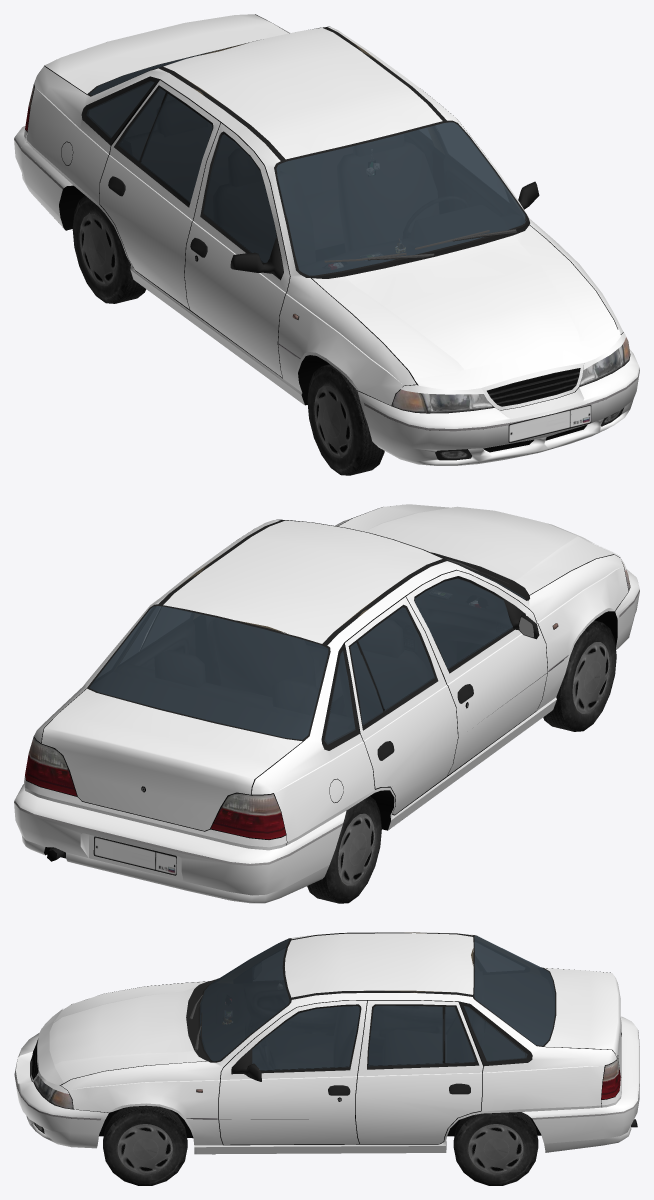
File: nexia.glb
3 views of the same model, one above another, from view 1: azimuth 30°, elevation 25°; view 2: azimuth 150°, elevation 25°; view 3: azimuth 270°, elevation 25° (orthographic). The views are drawn at different scales.
Parts seen in each view (by area): view 1: Color_DN, Inter, steklo_DN, muho_DN_tun, FRDN, RRDN, kolpak1_1, kolpak1_3, resnic_DN_tun; view 2: Color_DN, Inter, steklo_DN, FRDN, RRDN, kolpak1_1, kolpak1_3; view 3: Color_DN, Inter, steklo_DN, FLDN, RLDN, kolpak1, kolpak1_2, muho_DN_tun.
Boxes of the visible parts, <box> form: Color_DN: <box>14,14,639,465</box>; Inter: <box>14,14,639,460</box>; steklo_DN: <box>86,29,526,275</box>; muho_DN_tun: <box>414,329,620,390</box>; FRDN: <box>307,364,384,475</box>; RRDN: <box>72,195,146,303</box>; kolpak1_1: <box>314,385,351,457</box>; kolpak1_3: <box>79,214,116,285</box>; resnic_DN_tun: <box>400,332,625,394</box>; Color_DN: <box>14,504,639,903</box>; Inter: <box>14,507,639,875</box>; steklo_DN: <box>89,566,524,744</box>; FRDN: <box>543,620,616,731</box>; RRDN: <box>307,796,381,903</box>; kolpak1_1: <box>572,642,609,713</box>; kolpak1_3: <box>338,813,374,885</box>; Color_DN: <box>15,932,639,1154</box>; Inter: <box>14,932,639,1154</box>; steklo_DN: <box>200,935,554,1070</box>; FLDN: <box>103,1105,187,1185</box>; RLDN: <box>453,1112,538,1185</box>; kolpak1: <box>117,1124,172,1174</box>; kolpak1_2: <box>468,1124,523,1174</box>; muho_DN_tun: <box>37,1009,63,1085</box>.
Size of the model in its own units: 1.77 by 1.33 by 4.18.
Materials: 12 (9 with a texture image).
